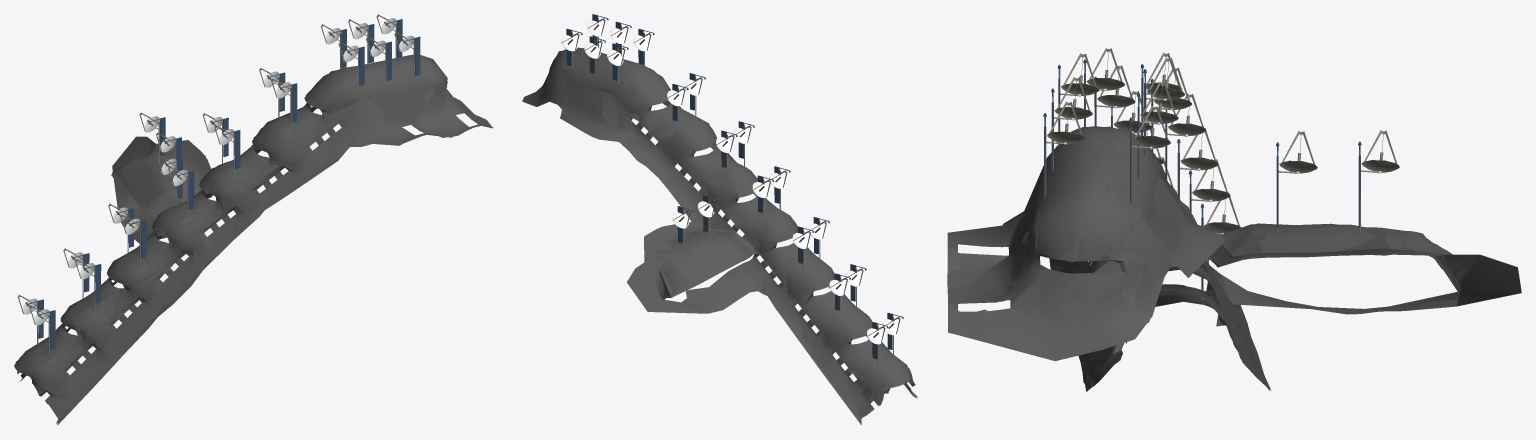
Rendered from Overlay_1stGal_Top.glb.
3 renders of one model, left to right at view 1: azimuth 30°, elevation 25°; view 2: azimuth 150°, elevation 25°; view 3: azimuth 270°, elevation 25°, orthographic. The views are drawn at different scales.
Parts seen in each view (by area): view 1: Overlay_1stGal_Top, Overlay_1stGal_Top.002, Overlay_1stGal_Top.001, LightTubes_1stGalUpper_LEDs, LightTubes_1stGalUpper_Mirrors.001, LightTubes_1stGalUpper_Mirrors, LightTubes_1stGalUpper_LEDs.002, LightTubes_1stGalUpper_Bases, LightTubes_1stGalUpper_Bases.002; view 2: Overlay_1stGal_Top, Overlay_1stGal_Top.002, Overlay_1stGal_Top.001, LightTubes_1stGalUpper_Mirrors.001, LightTubes_1stGalUpper_LEDs, LightTubes_1stGalUpper_Mirrors, LightTubes_1stGalUpper_LEDs.002, LightTubes_1stGalUpper_Bases; view 3: Overlay_1stGal_Top, Overlay_1stGal_Top.002, Overlay_1stGal_Top.001, LightTubes_1stGalUpper_Mirrors, LightTubes_1stGalUpper_LEDs, LightTubes_1stGalUpper_Bases, LightTubes_1stGalUpper_Mirrors.002, LightTubes_1stGalUpper_Mirrors.001, LightTubes_1stGalUpper_LEDs.002, LightTubes_1stGalUpper_Bases.002.
Part boxes in pixels (bbox=[...]): Overlay_1stGal_Top: bbox=[14, 57, 492, 413]; Overlay_1stGal_Top.002: bbox=[14, 54, 493, 425]; Overlay_1stGal_Top.001: bbox=[15, 55, 490, 423]; LightTubes_1stGalUpper_LEDs: bbox=[26, 19, 420, 349]; LightTubes_1stGalUpper_Mirrors.001: bbox=[21, 18, 413, 325]; LightTubes_1stGalUpper_Mirrors: bbox=[17, 14, 414, 324]; LightTubes_1stGalUpper_LEDs.002: bbox=[28, 19, 420, 342]; LightTubes_1stGalUpper_Bases: bbox=[34, 23, 414, 355]; LightTubes_1stGalUpper_Bases.002: bbox=[36, 23, 414, 344]; Overlay_1stGal_Top: bbox=[522, 47, 913, 424]; Overlay_1stGal_Top.002: bbox=[522, 48, 916, 420]; Overlay_1stGal_Top.001: bbox=[524, 47, 917, 425]; LightTubes_1stGalUpper_Mirrors.001: bbox=[561, 21, 898, 344]; LightTubes_1stGalUpper_LEDs: bbox=[566, 14, 903, 359]; LightTubes_1stGalUpper_Mirrors: bbox=[561, 18, 900, 344]; LightTubes_1stGalUpper_LEDs.002: bbox=[566, 14, 903, 358]; LightTubes_1stGalUpper_Bases: bbox=[572, 16, 893, 365]; Overlay_1stGal_Top: bbox=[947, 126, 1521, 390]; Overlay_1stGal_Top.002: bbox=[947, 126, 1479, 391]; Overlay_1stGal_Top.001: bbox=[947, 126, 1520, 389]; LightTubes_1stGalUpper_Mirrors: bbox=[1047, 48, 1399, 234]; LightTubes_1stGalUpper_LEDs: bbox=[1043, 59, 1361, 289]; LightTubes_1stGalUpper_Bases: bbox=[1044, 69, 1378, 299]; LightTubes_1stGalUpper_Mirrors.002: bbox=[1048, 49, 1396, 233]; LightTubes_1stGalUpper_Mirrors.001: bbox=[1050, 70, 1396, 232]; LightTubes_1stGalUpper_LEDs.002: bbox=[1043, 60, 1361, 286]; LightTubes_1stGalUpper_Bases.002: bbox=[1047, 70, 1377, 299].
Size of what is drawn, in the model's own units: 377 by 268 by 232.
